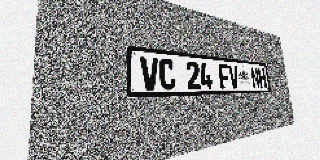2: (185, 61, 201, 89)
4: (199, 62, 213, 89)
C: (158, 58, 176, 90)
F: (218, 64, 231, 89)
H: (257, 68, 267, 88)
N: (250, 67, 260, 88)
V: (140, 56, 159, 90), (228, 65, 240, 89)
